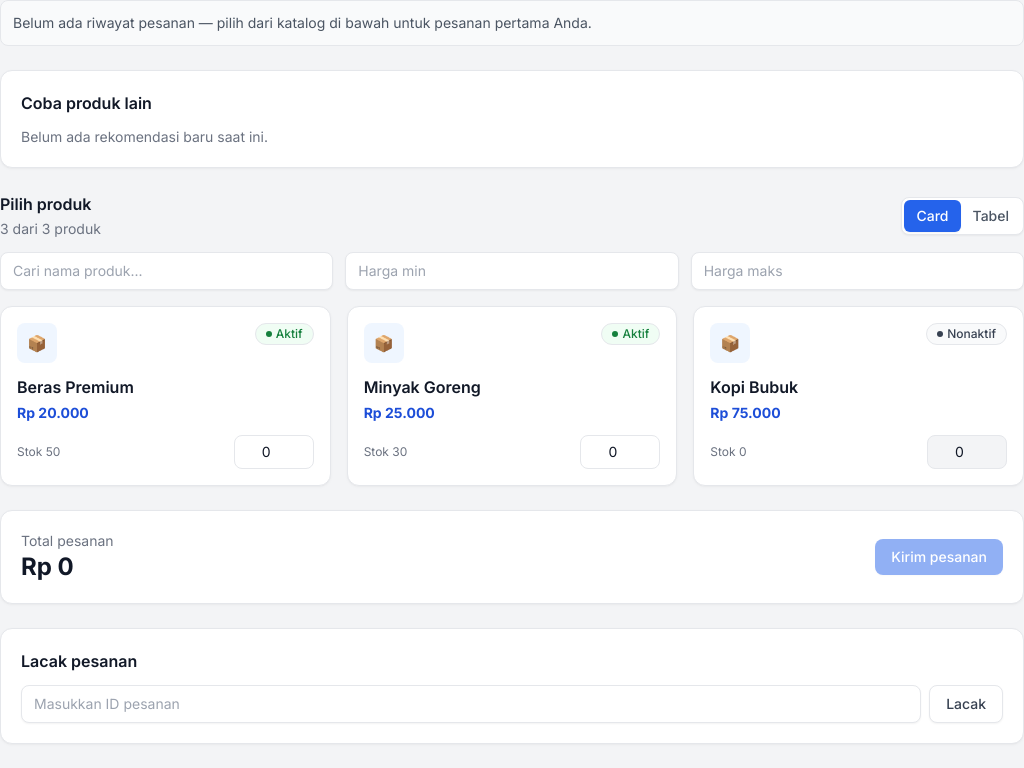
Scenario: OrderForm — view mode + product filters › shows a filtered-empty state when no product matches
This screenshot has width=1024, height=768.
Expected: the heading "Beras Premium" is shown, [17,377,134,397]
Type "1000000" into the number field named "Harga minimum" at (512, 271), box [345,252,679,290]
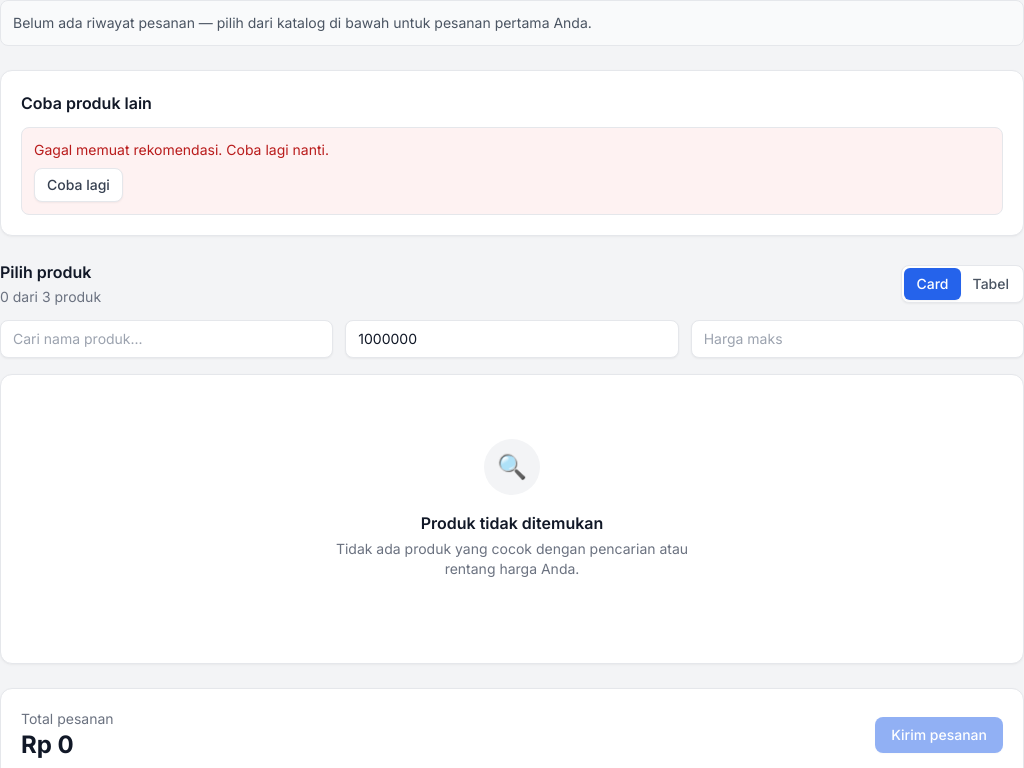
Now the heading "Produk tidak ditemukan" is shown, box [421,511,603,535]
